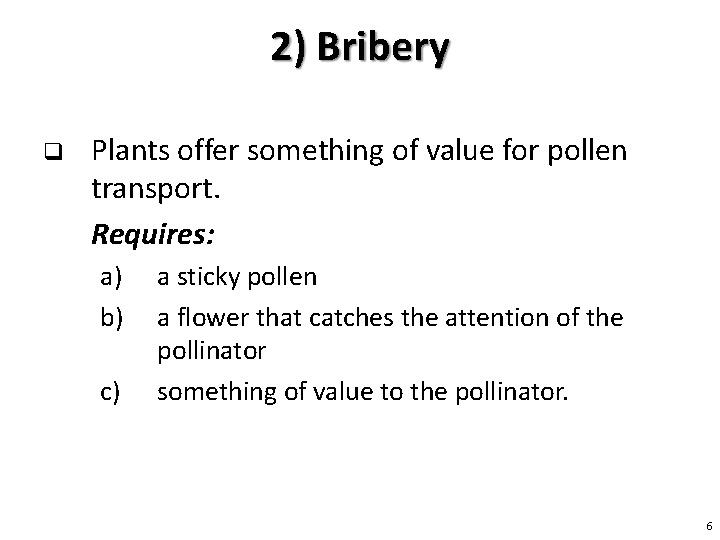paragraph: (44, 96, 667, 466)
subtitle: (84, 214, 223, 259)
title: (267, 21, 471, 79)
